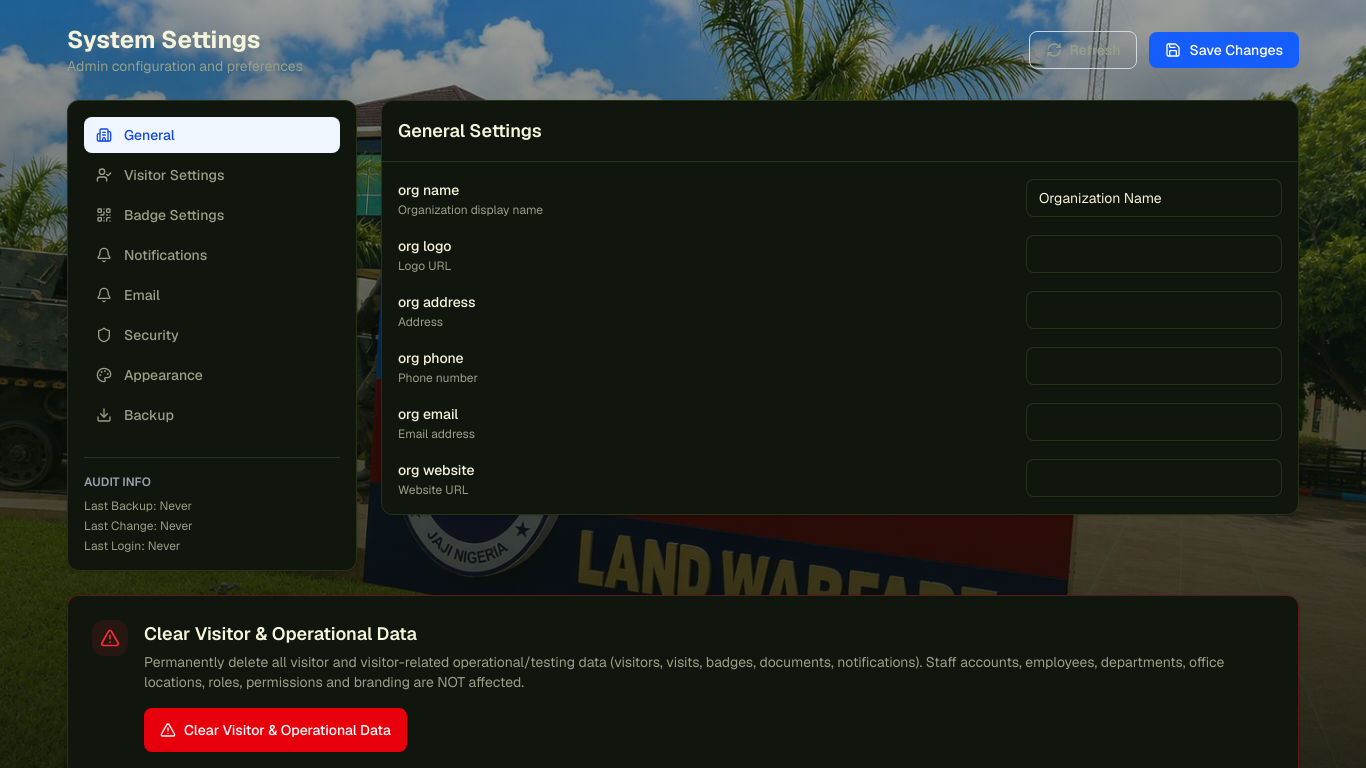
Test: Settings page - Clear Visitor Data button › closes modal when Cancel is clicked
Click the button "Clear Visitor & Operational Data".
click(275, 730)  # box [144, 708, 407, 752]
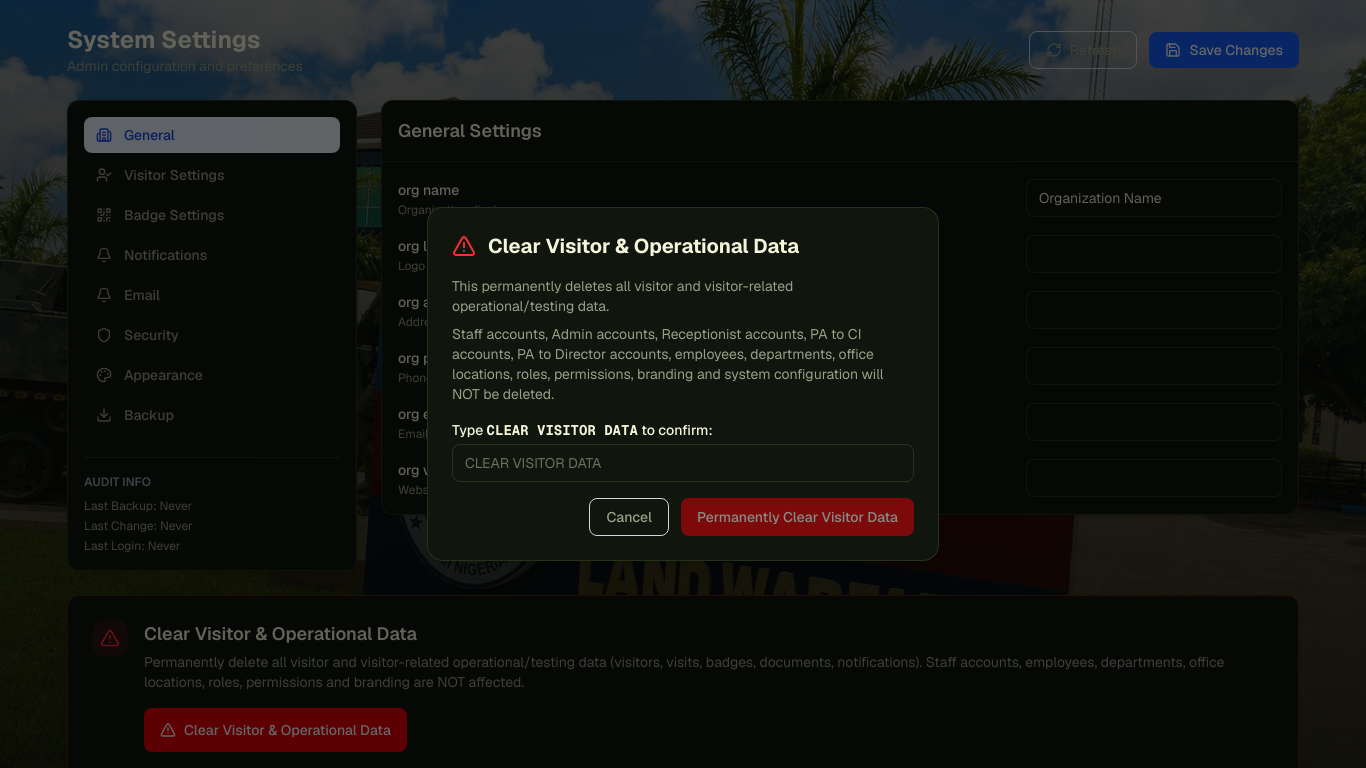
Click the button "Cancel".
click(629, 517)  # box [589, 498, 669, 536]
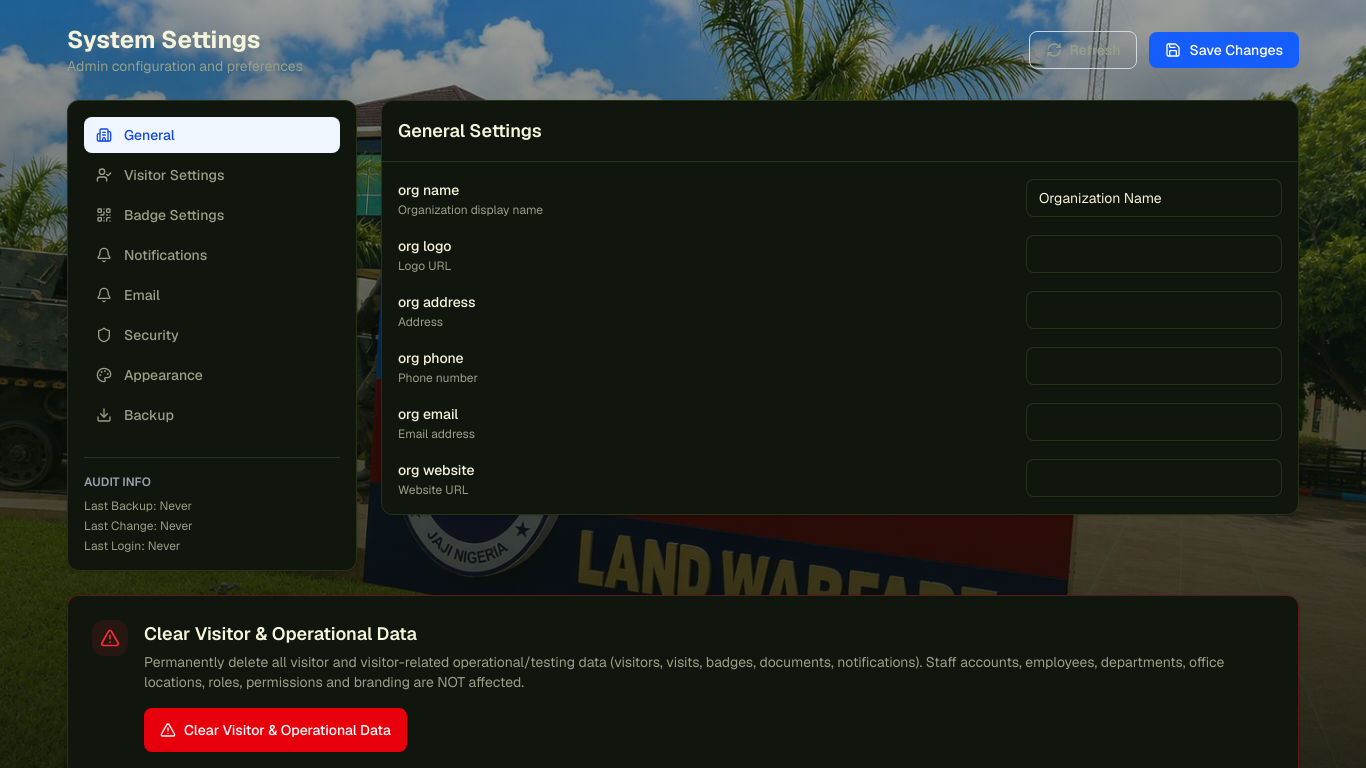
Expected: the button "Permanently Clear Visitor Data" is gone
